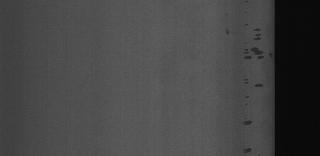oil spot: (242, 43, 268, 64), (240, 74, 253, 108), (250, 22, 266, 42), (223, 13, 234, 39), (242, 2, 250, 30), (242, 115, 254, 131), (242, 144, 252, 156), (256, 84, 264, 90)
